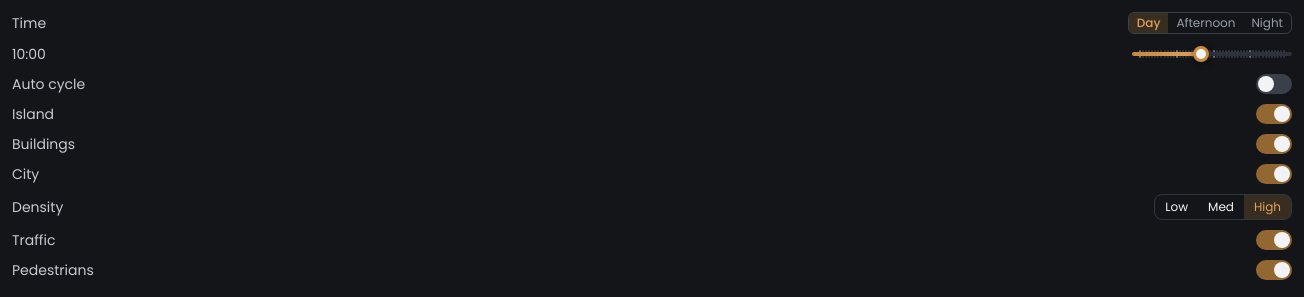
Scenario: EnvironmentPanel › scrubs the hour by half-hours
The width and height of the screenshot is (1304, 297).
Set the slider named "Hour of day" to "39": (1259, 54) x1=1132 y1=44 x2=1292 y2=64
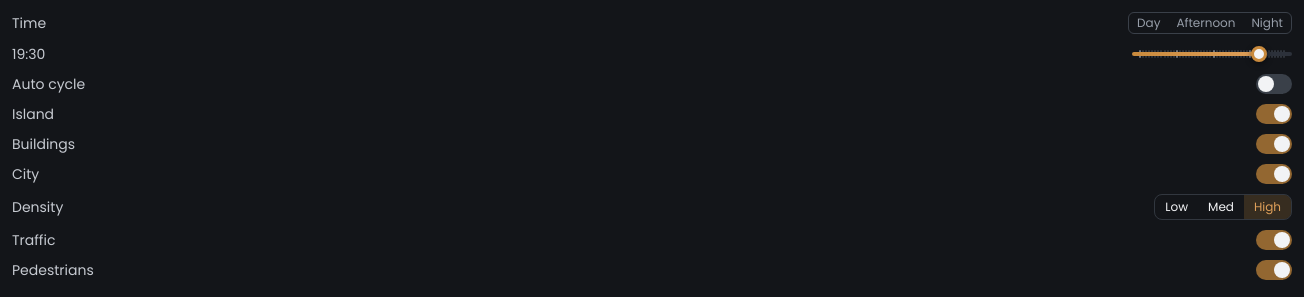
Now the slider named "Hour of day" has attribute aria-valuetext="19:30", box x1=1132 y1=44 x2=1292 y2=64
